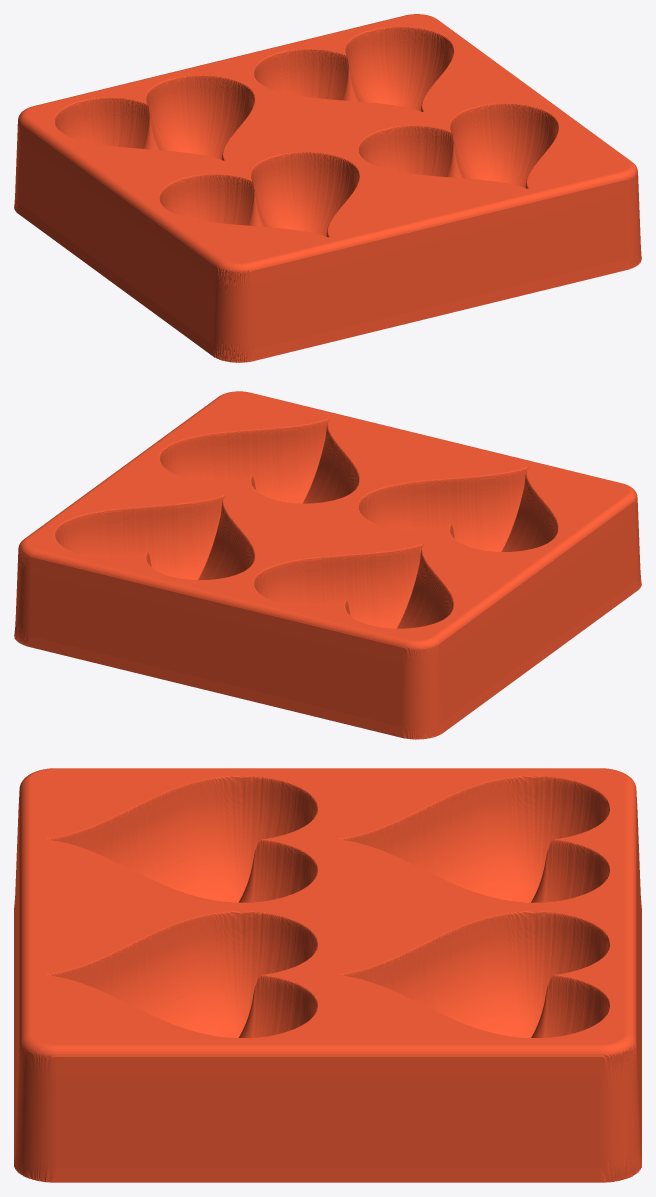
The model's file is mold.glb.
3 views of the same model, one above another, from view 1: azimuth 30°, elevation 25°; view 2: azimuth 150°, elevation 25°; view 3: azimuth 270°, elevation 25° (orthographic). The views are drawn at different scales.
Visible parts, largest first — view 1: geometry_0; view 2: geometry_0; view 3: geometry_0.
Part boxes in pixels (left/top/right/bottom): geometry_0: left=14, top=14, right=641, bottom=362; geometry_0: left=14, top=391, right=641, bottom=739; geometry_0: left=14, top=768, right=641, bottom=1182.
Bounding box in the file's own units: 0.1466 × 0.031 × 0.1344.
